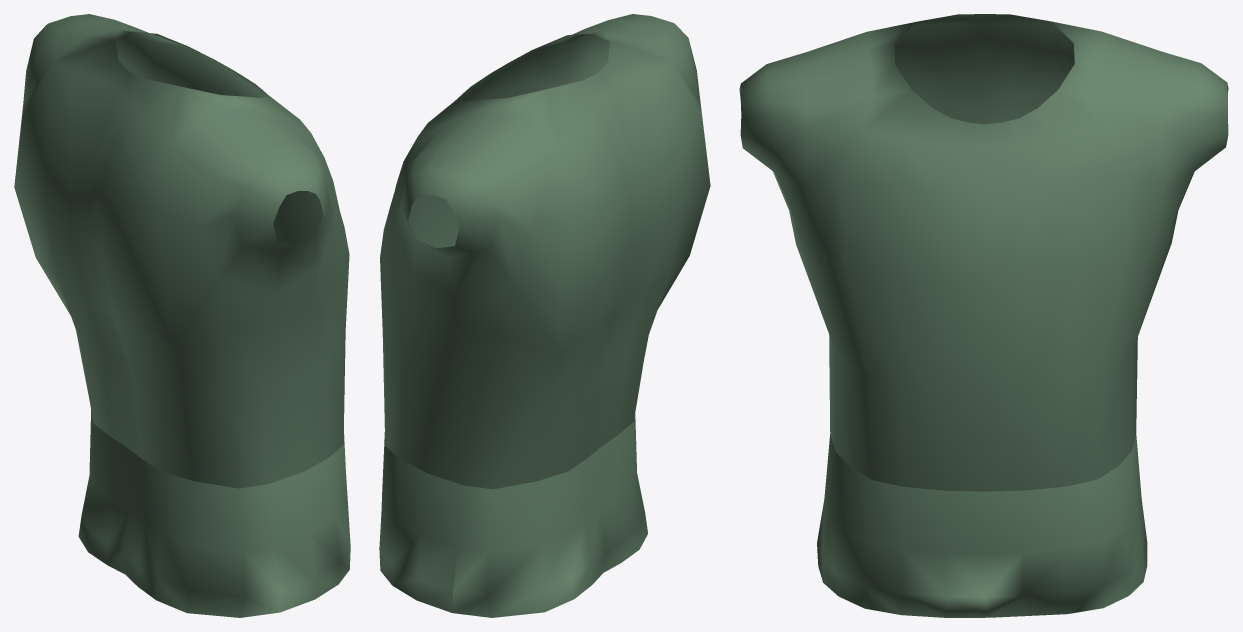
3 renders of one model, left to right at view 1: azimuth 30°, elevation 25°; view 2: azimuth 150°, elevation 25°; view 3: azimuth 270°, elevation 25°, orthographic. The views are drawn at different scales.
Visible parts, largest first — view 1: Object_9.006; view 2: Object_9.006; view 3: Object_9.006.
Part boxes in pixels (x1=…): Object_9.006: x1=14, y1=14, x2=350, y2=617; Object_9.006: x1=379, y1=14, x2=710, y2=617; Object_9.006: x1=739, y1=14, x2=1228, y2=617.
Bounding box in the file's own units: 58.78 × 120 × 101.
